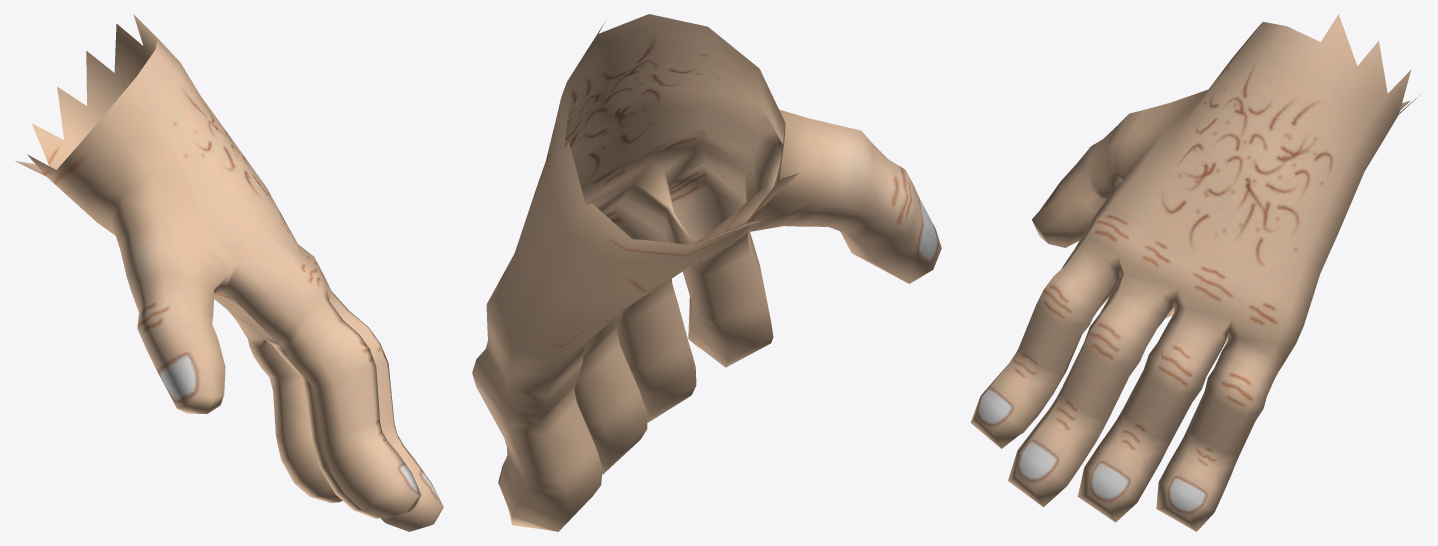
The model's file is crazydave_mano_izq.obj.
3 renders of one model, left to right at view 1: azimuth 30°, elevation 25°; view 2: azimuth 150°, elevation 25°; view 3: azimuth 270°, elevation 25°, orthographic. The views are drawn at different scales.
Visible parts, largest first — view 1: crazydave_mano_izq; view 2: crazydave_mano_izq; view 3: crazydave_mano_izq.
Boxes of the visible parts, left/top/right/bottom form: crazydave_mano_izq: left=15, top=14, right=443, bottom=531; crazydave_mano_izq: left=472, top=14, right=941, bottom=531; crazydave_mano_izq: left=970, top=14, right=1419, bottom=531.
Bounding box in the file's own units: 0.2153 × 0.3379 × 0.3083.
